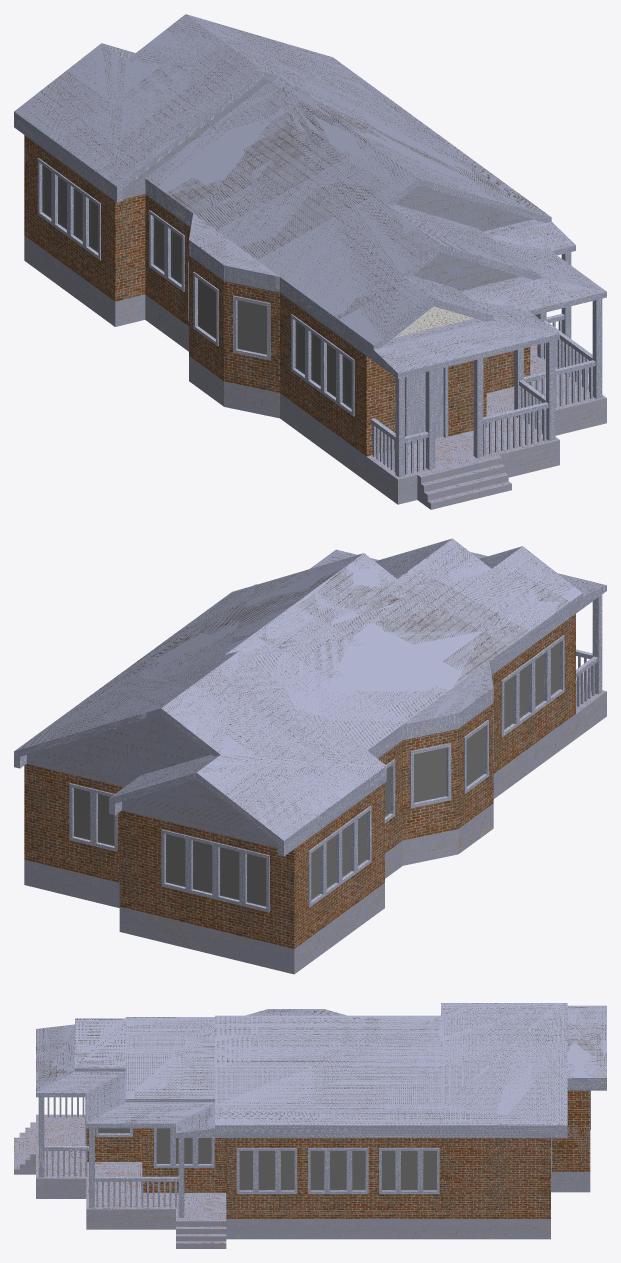
Rendered from house3.dae.
The picture shows the model from 3 angles, top to bottom: view 1: azimuth 30°, elevation 25°; view 2: azimuth 150°, elevation 25°; view 3: azimuth 270°, elevation 25°; orthographic projection. The views are drawn at different scales.
Visible parts, largest first — view 1: Model; view 2: Model; view 3: Model.
Part boxes in pixels (x1=…): Model: x1=14, y1=14, x2=606, y2=509; Model: x1=14, y1=538, x2=606, y2=974; Model: x1=14, y1=1003, x2=606, y2=1248.
Bounding box in the file's own units: 320 × 636 × 211.
Materials: 14 (5 with a texture image).
